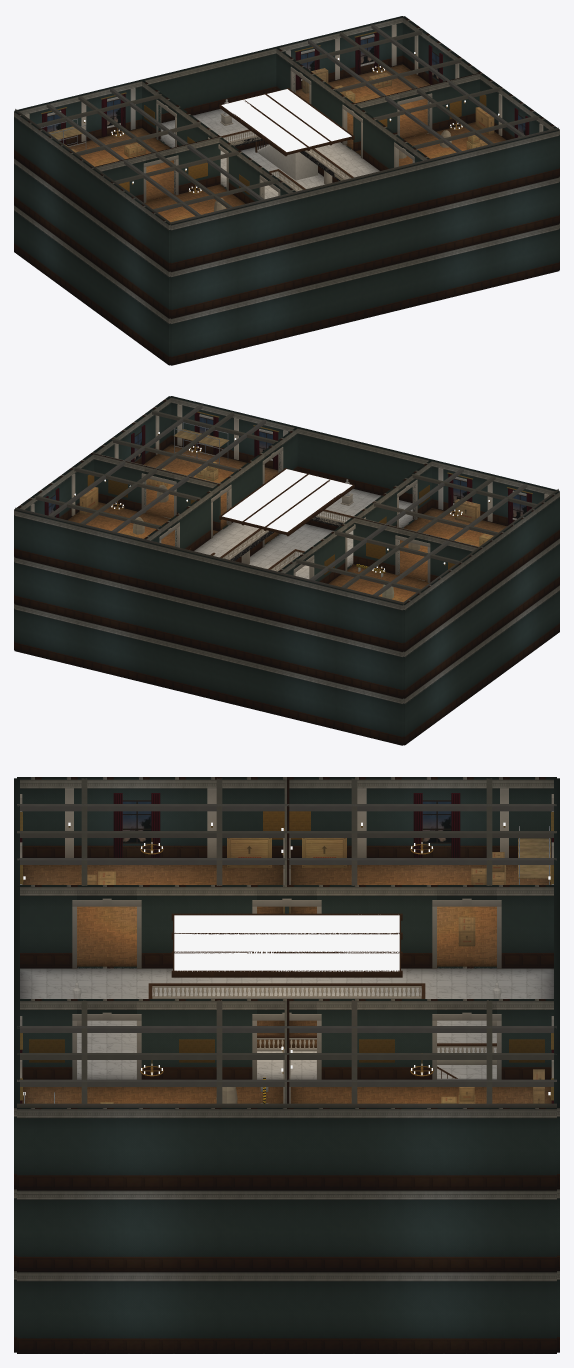
The model's file is manor.glb.
3 renders of one model, top to bottom at view 1: azimuth 30°, elevation 25°; view 2: azimuth 150°, elevation 25°; view 3: azimuth 270°, elevation 25°, orthographic. The views are drawn at different scales.
Parts seen in each view (by area): view 1: Map; view 2: Map; view 3: Map.
Boxes of the visible parts, <box> form: Map: <box>14,16,559,365</box>; Map: <box>14,396,559,745</box>; Map: <box>14,777,559,1353</box>.
Bounding box in the file's own units: 52.4 × 18.3 × 36.4.
Materials: 27 (26 with a texture image).
